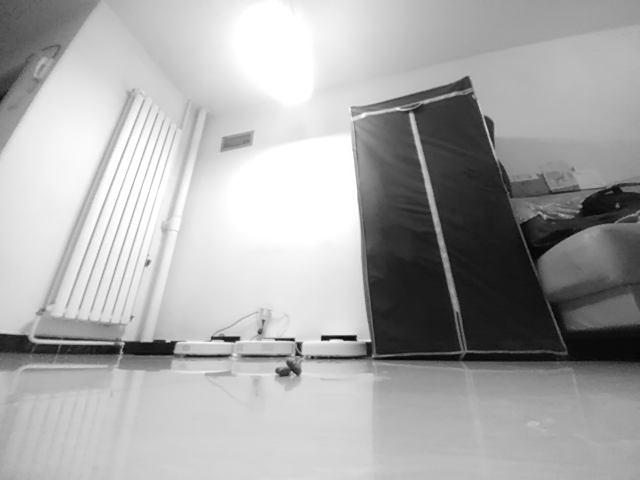pet feces: (276, 356, 302, 380)
